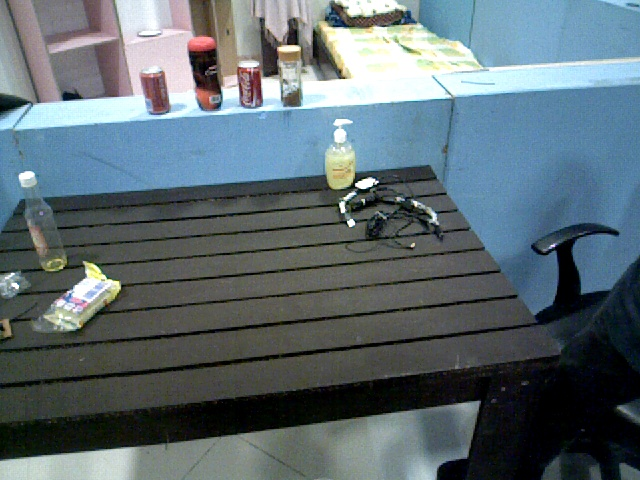coca: (238, 59, 260, 110)
coffee: (276, 43, 306, 108)
cream: (187, 35, 224, 113)
fanta: (140, 67, 171, 115)
